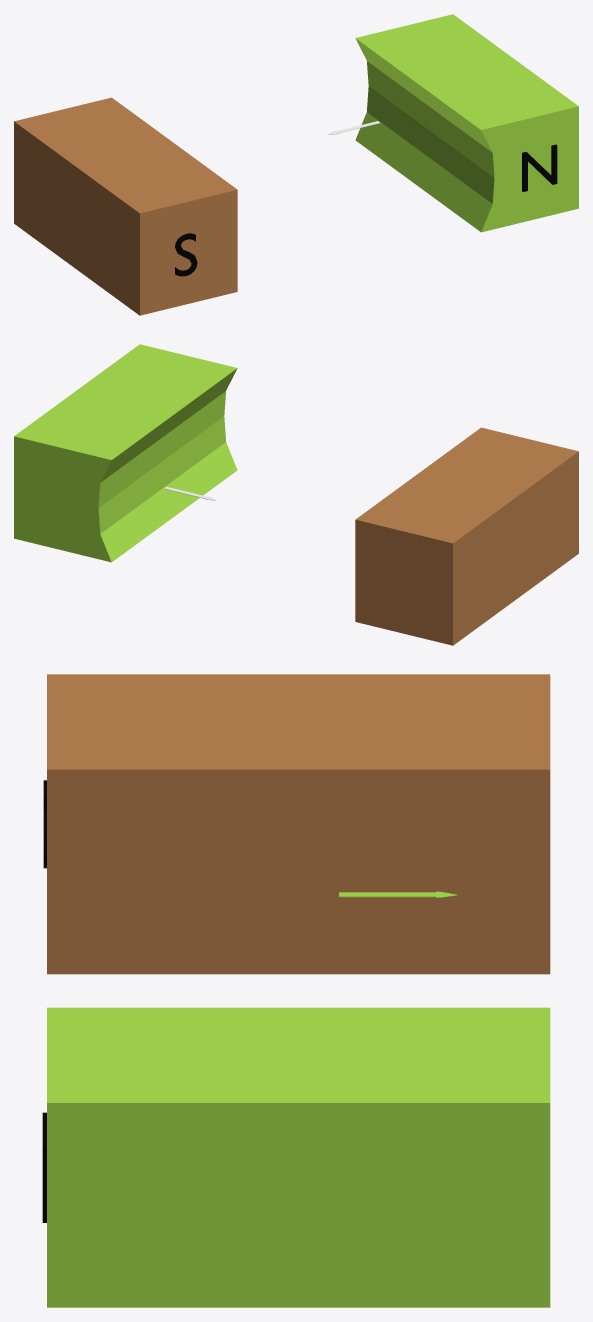
Rendered from north and south.fbx.
3 views of the same model, one above another, from view 1: azimuth 30°, elevation 25°; view 2: azimuth 150°, elevation 25°; view 3: azimuth 270°, elevation 25° (orthographic). The views are drawn at different scales.
Parts seen in each view (by area): view 1: Plane.002; view 2: Plane.002; view 3: Plane.002.
Part boxes in pixels (bbox=[...]): Plane.002: bbox=[14, 14, 578, 315]; Plane.002: bbox=[14, 344, 578, 645]; Plane.002: bbox=[42, 674, 550, 1307].
Bounding box in the file's own units: 59.45 × 13.23 × 29.77.
